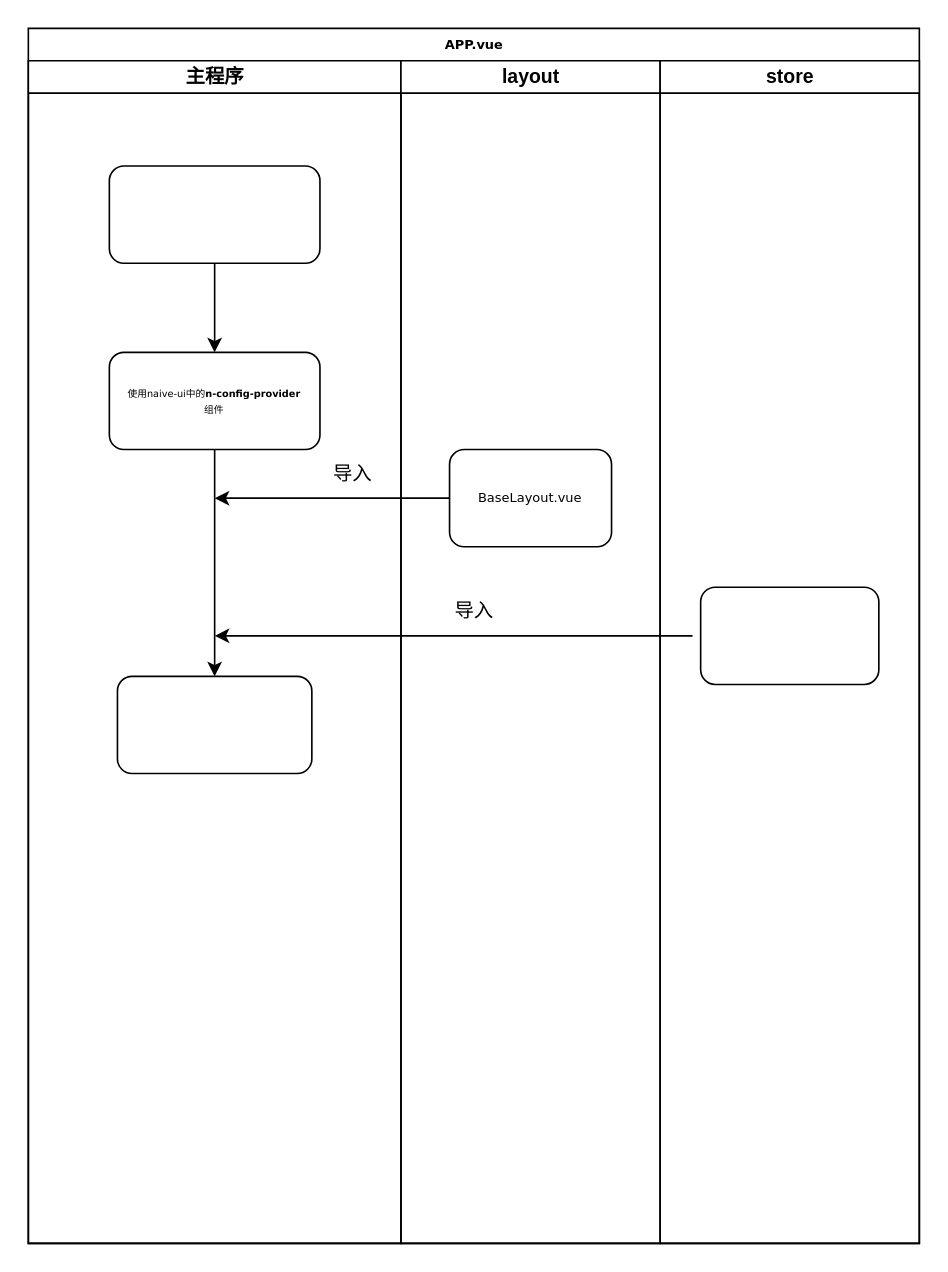
The diagram is 948 pixels wide and 1272 high, and some of its shapes have lost their labels. The shapes that lost their labels are listed below. From the top down, each one's box as (x1, y1, x2, y2) in pixels, then its label:
(108, 164, 320, 263): 开始
(699, 586, 879, 684): userThemeStore hook
(116, 675, 312, 774): 在最外层配置当前系统应用的主题
